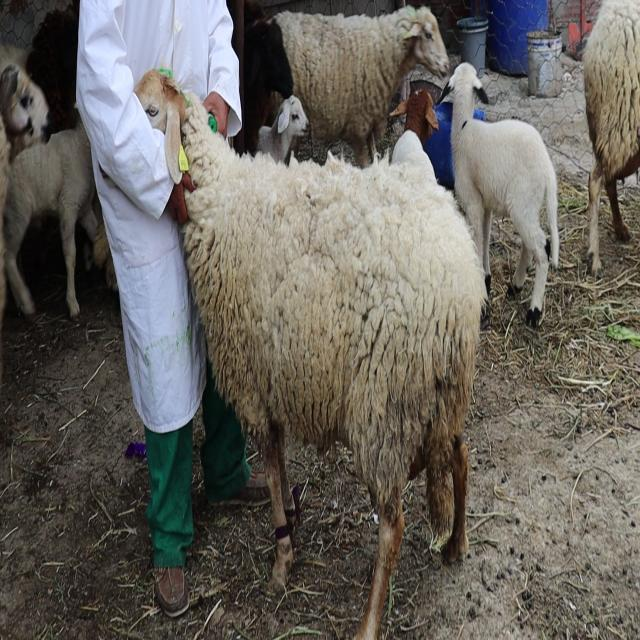Score_4: (135, 69, 486, 639)
